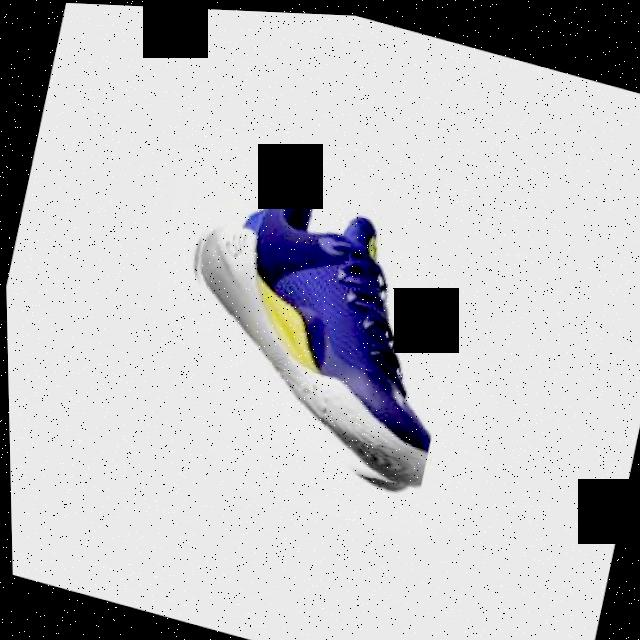shoe: (148, 144, 480, 496)
